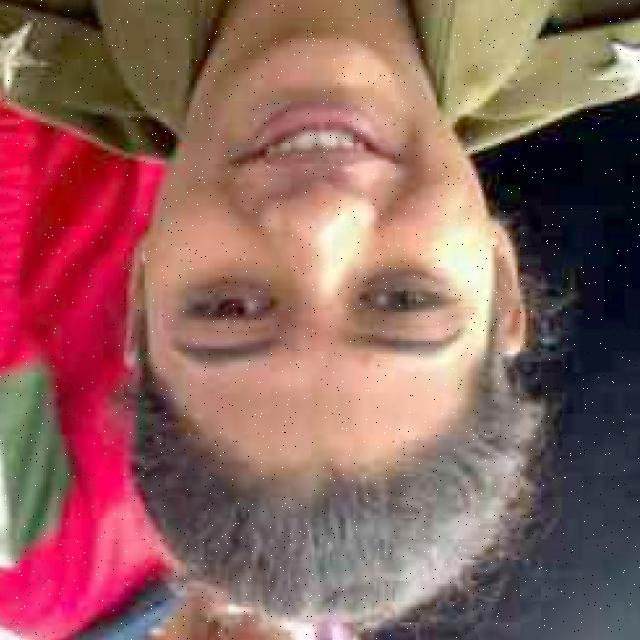puffy_eyes: (363, 267, 445, 291)
